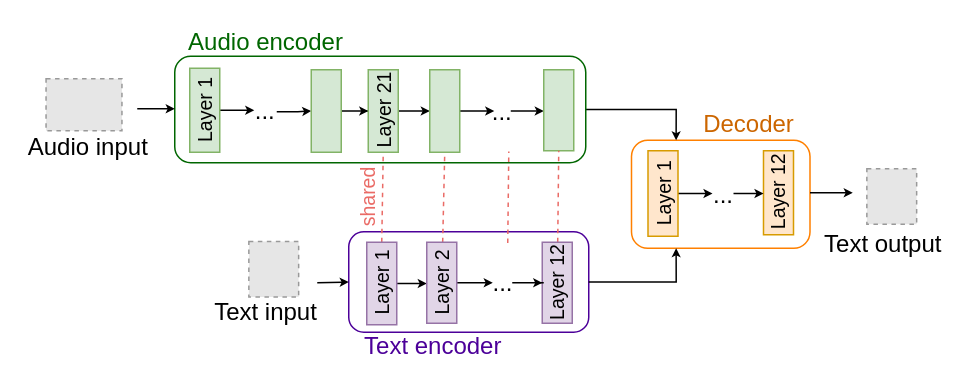
Some shapes in this 971 by 386 pixel diagram are drawn without their labels. Grey dashed boxes stand in for pictures. The shapes that lost their labels are listed below. From the top down, each one's centre as x and y in pixels, then its label:
(x=325, y=110): Layer 20
(x=444, y=110): Layer 22
(x=558, y=109): Layer 32
